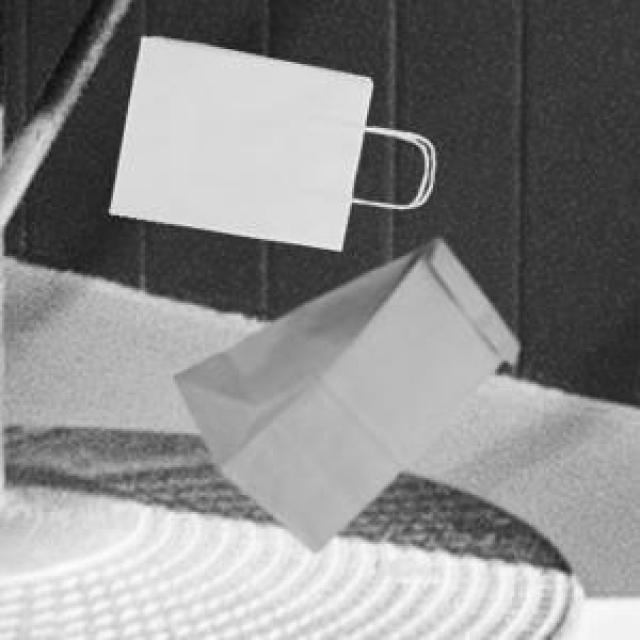paper: (171, 235, 514, 548), (105, 32, 431, 248)
